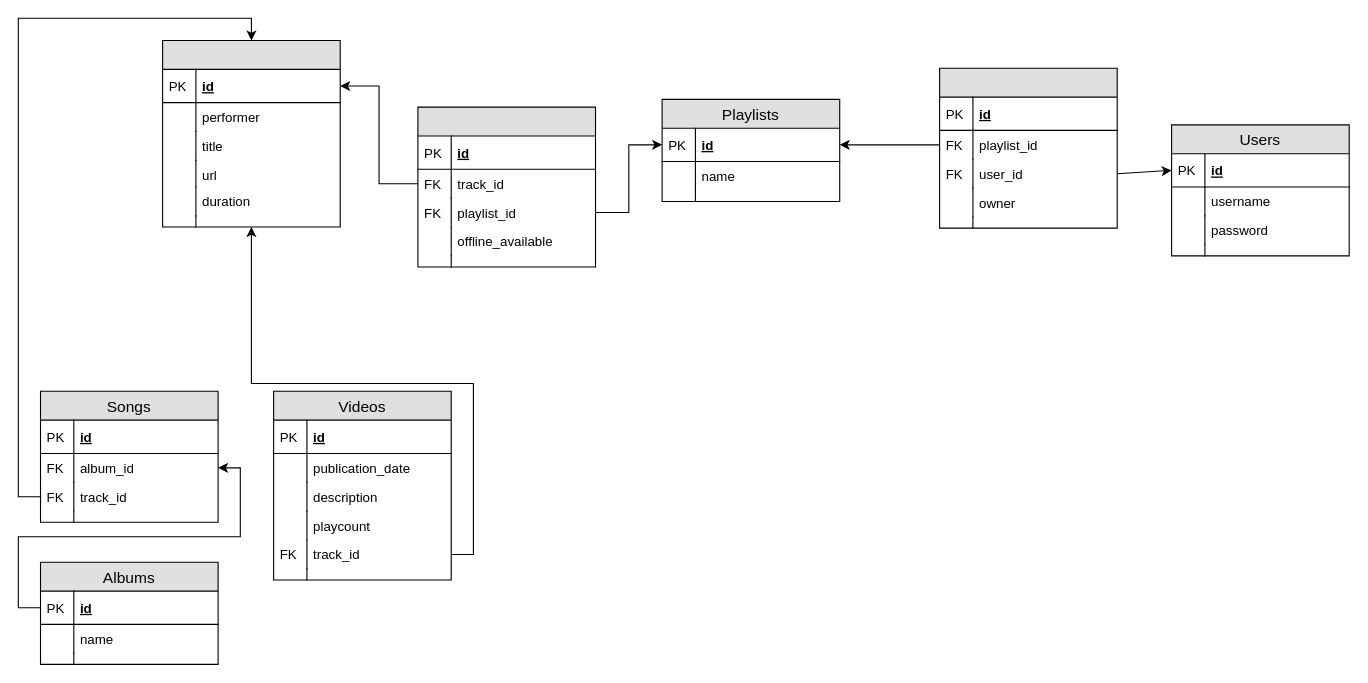
This 1368x683 diagram has some shape labels left out. Here are the shapes that lost their labels. From the top down, the box of each, then its label:
(162, 39, 340, 227): Tracks
(939, 67, 1117, 228): PlaylistMappers
(417, 106, 596, 267): TrackMappers
